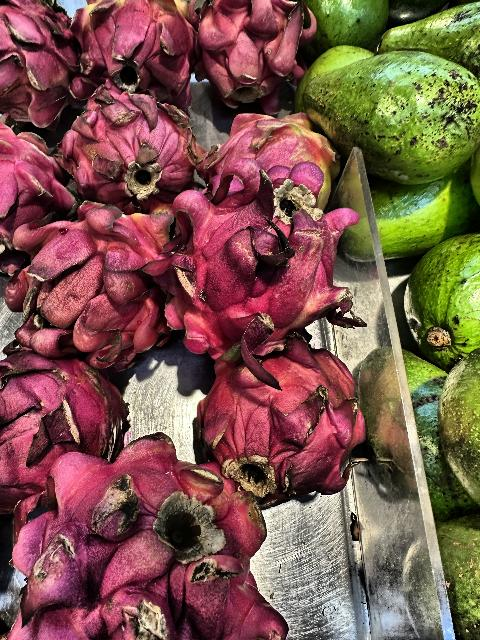buah-naga-belum-matang: (195, 98, 331, 208), (72, 1, 202, 98)
buah-naga-matang: (20, 448, 296, 640), (166, 180, 358, 346), (194, 336, 373, 504), (17, 214, 176, 366), (0, 348, 130, 500), (62, 73, 198, 203), (191, 0, 308, 98), (0, 116, 78, 250), (0, 4, 86, 124)
